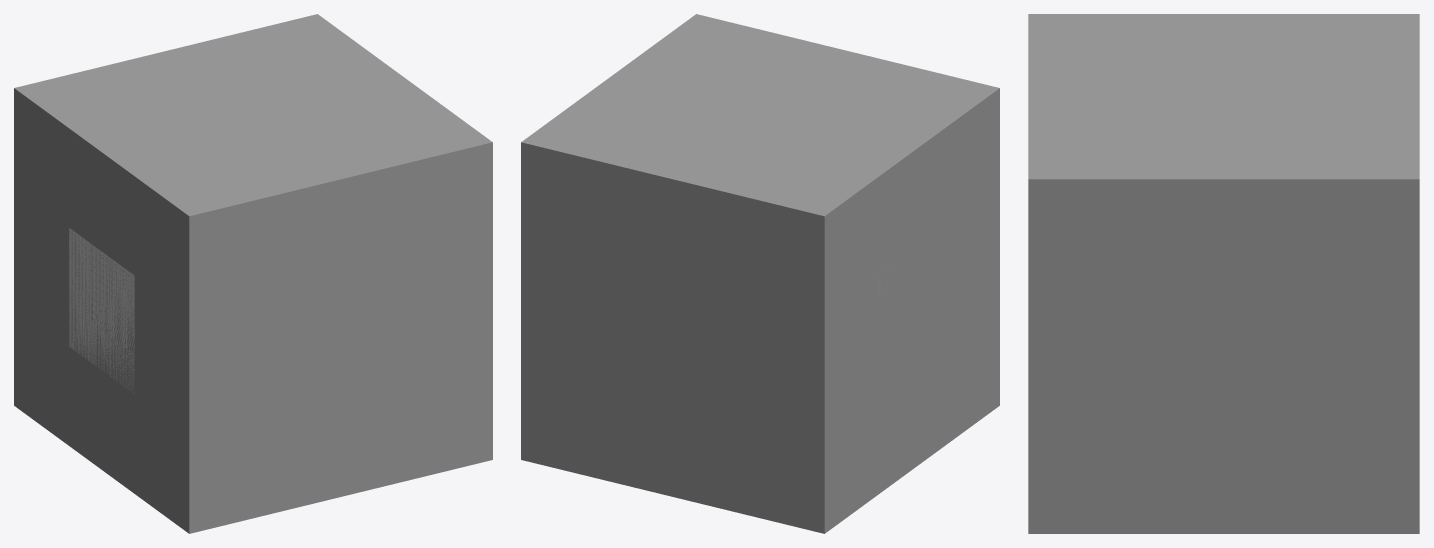
Rendered from signalsourcepot.obj.
The picture shows the model from 3 angles, left to right: view 1: azimuth 30°, elevation 25°; view 2: azimuth 150°, elevation 25°; view 3: azimuth 270°, elevation 25°; orthographic projection. The views are drawn at different scales.
Parts seen in each view (by area): view 1: Minecraft_Block_Cube, main; view 2: Minecraft_Block_Cube; view 3: Minecraft_Block_Cube.
Boxes of the visible parts, x1=… form: Minecraft_Block_Cube: x1=14, y1=14, x2=492, y2=533; main: x1=69, y1=228, x2=134, y2=393; Minecraft_Block_Cube: x1=521, y1=14, x2=999, y2=533; Minecraft_Block_Cube: x1=1028, y1=14, x2=1419, y2=533.
Size of the model in its own units: 1 by 1 by 1.
Materials: 2 (1 with a texture image).
